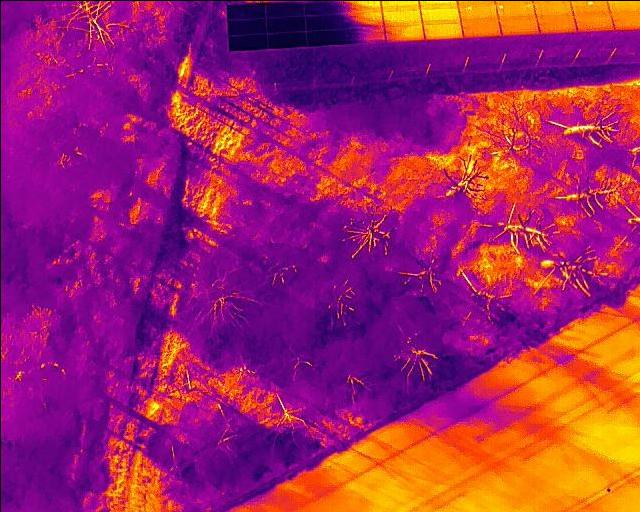Cell: (459, 6, 497, 22)
Cell-Multi: (496, 3, 534, 19)
No-Anomaly: (536, 12, 576, 33), (574, 11, 611, 31), (384, 24, 424, 41), (420, 8, 462, 23), (424, 23, 463, 39), (381, 9, 422, 24), (462, 21, 500, 37), (499, 19, 537, 34)
Shadowing: (227, 3, 266, 20), (306, 29, 345, 46), (265, 17, 305, 33), (227, 19, 267, 35), (228, 34, 267, 50), (265, 1, 304, 17), (344, 12, 384, 27), (304, 14, 344, 29), (266, 33, 306, 48), (345, 27, 385, 41), (303, 0, 341, 14)
